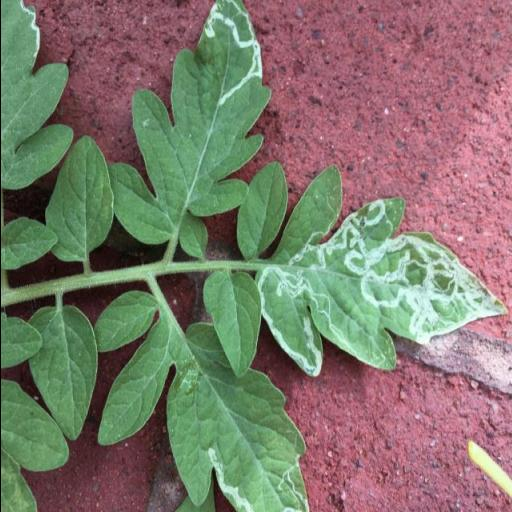Healthy: (26, 306, 96, 442), (42, 134, 114, 264), (202, 266, 260, 380), (233, 160, 287, 262), (94, 288, 157, 354)
Leaf Miner: (255, 166, 507, 380), (111, 0, 270, 244), (166, 321, 325, 512)
